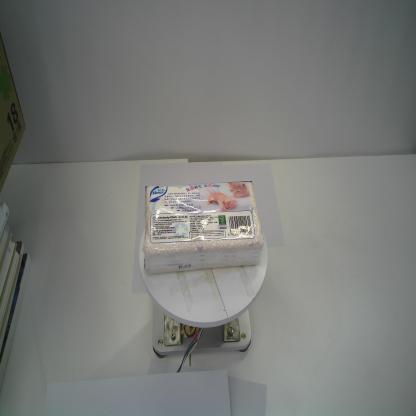Tissue: (142, 180, 264, 276)
